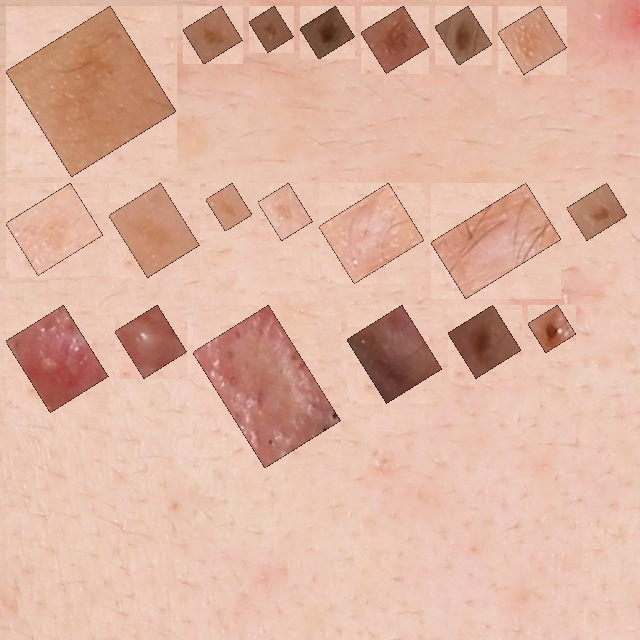hypertrophic_scar: (204, 316, 330, 456), (442, 194, 550, 287), (330, 194, 413, 272), (358, 316, 431, 392), (126, 316, 176, 367)
melasma: (17, 17, 165, 165), (17, 194, 92, 264), (120, 194, 188, 266), (509, 17, 555, 63), (194, 17, 231, 53), (269, 194, 301, 229), (217, 194, 241, 220)
nevus: (459, 316, 510, 367), (372, 17, 418, 62), (578, 194, 616, 229), (446, 17, 481, 54), (311, 17, 344, 48), (539, 316, 565, 341)
pustule: (17, 316, 97, 401)
